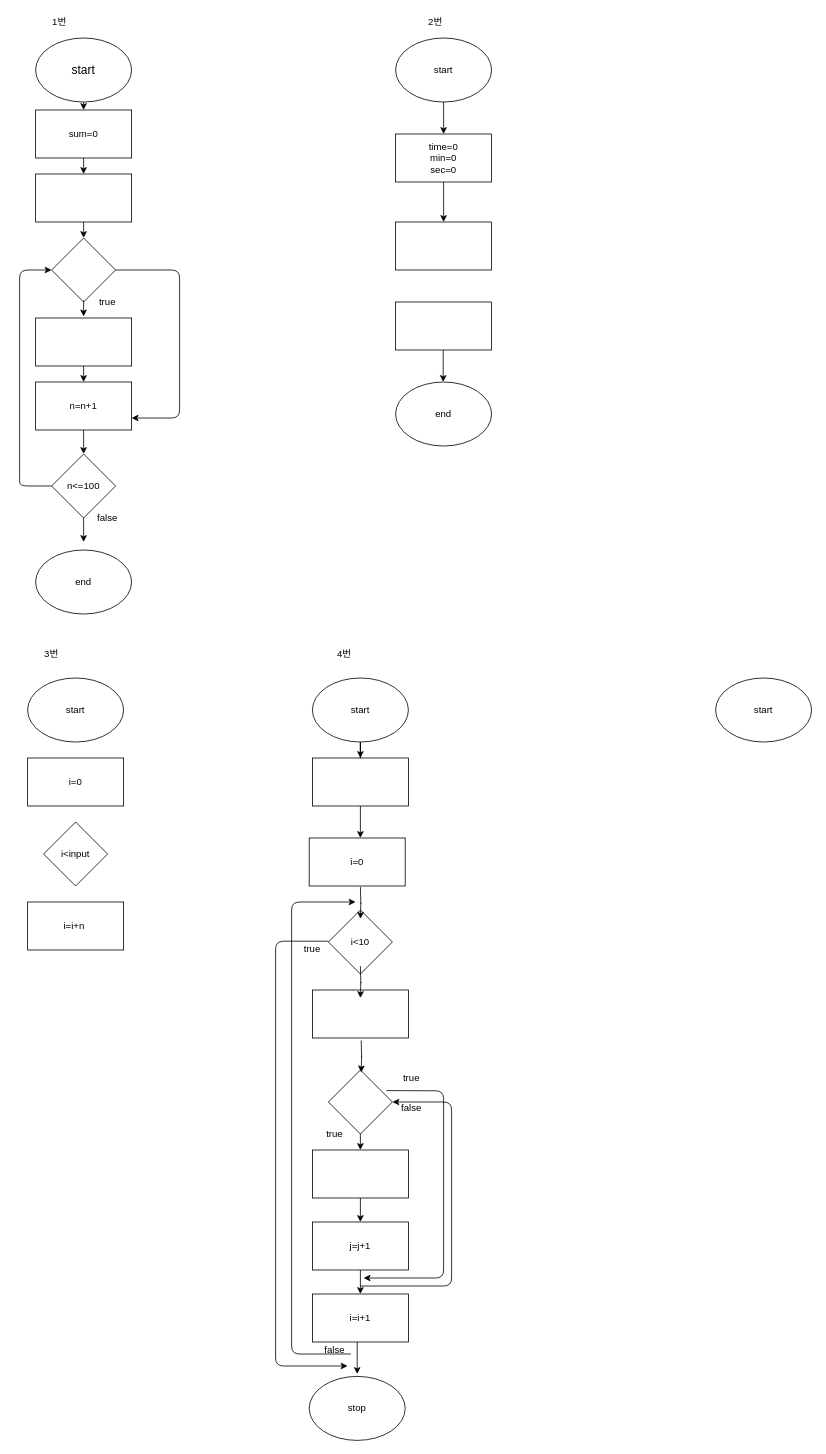
Some shapes in this 826 by 1454 pixel diagram are drawn without their labels. The box of each missing label's shape, as (x1, y1, x2, y2) in pixels:
3%n==0: (51, 237, 116, 302)
i,j,k: (312, 757, 408, 806)
j<10: (328, 1069, 392, 1134)
j=1,k=0: (312, 989, 408, 1038)
k=i*j: (312, 1149, 408, 1198)
min=time/60 sec=time%60: (395, 221, 492, 270)
min분sec초: (395, 301, 492, 350)
n=1: (35, 173, 132, 222)
sum=sum+n: (35, 317, 132, 366)
